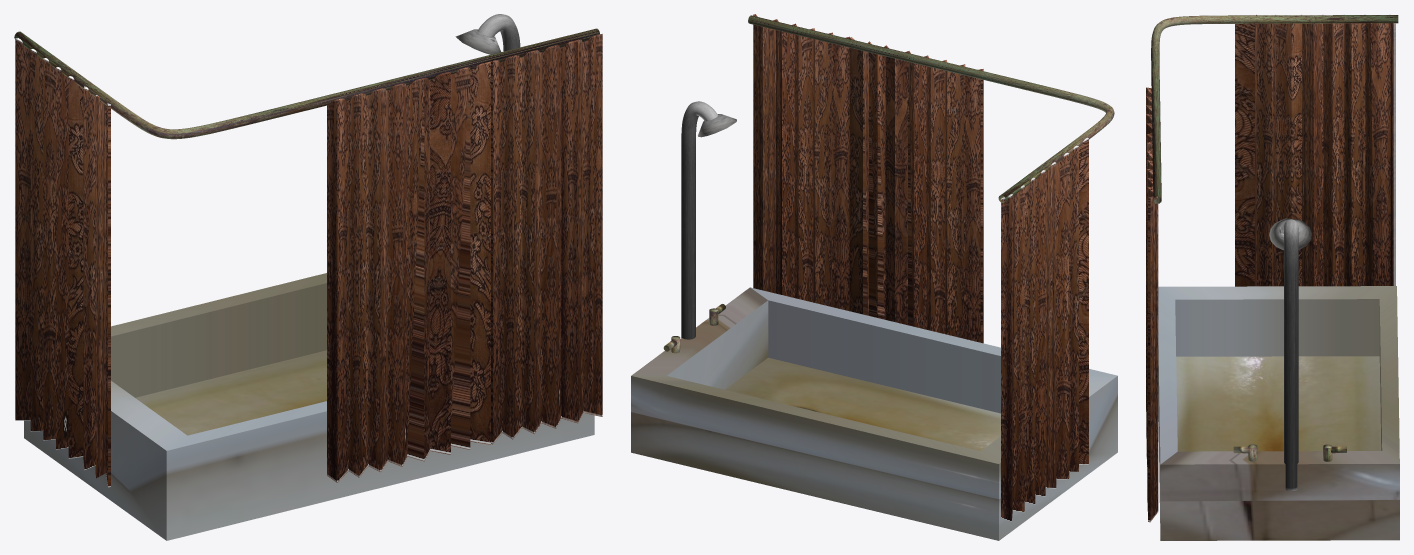
The model's file is bathtub.fbx.
3 views of the same model, side by side, from view 1: azimuth 30°, elevation 25°; view 2: azimuth 150°, elevation 25°; view 3: azimuth 270°, elevation 25° (orthographic). The views are drawn at different scales.
Visible parts, largest first — view 1: Plane.008, Cube.026, Plane.007, NurbsPath.005, NurbsPath.004; view 2: Cube.026, Plane.008, Plane.007, NurbsPath.005, NurbsPath.004; view 3: Cube.026, Plane.007, Plane.008, NurbsPath.004, NurbsPath.005, Cylinder.134, Cylinder.135.
Part boxes in pixels (box(x1,y1,x2,y2)): Plane.008: box(327, 34, 602, 482); Cube.026: box(24, 273, 594, 540); Plane.007: box(15, 38, 110, 487); NurbsPath.005: box(14, 28, 599, 139); NurbsPath.004: box(477, 14, 520, 51); Cube.026: box(631, 287, 1117, 540); Plane.008: box(753, 14, 983, 343); Plane.007: box(1001, 137, 1088, 521); NurbsPath.005: box(748, 15, 1114, 202); NurbsPath.004: box(681, 101, 718, 339); Cube.026: box(1158, 286, 1399, 540); Plane.007: box(1235, 14, 1395, 286); Plane.008: box(1146, 87, 1158, 522); NurbsPath.004: box(1284, 219, 1298, 491); NurbsPath.005: box(1151, 15, 1398, 203); Cylinder.134: box(1269, 218, 1311, 250); Cylinder.135: box(1233, 444, 1346, 461).
Size of the model in its own units: 1035 by 904 by 602.
Materials: 7 (7 with a texture image).
